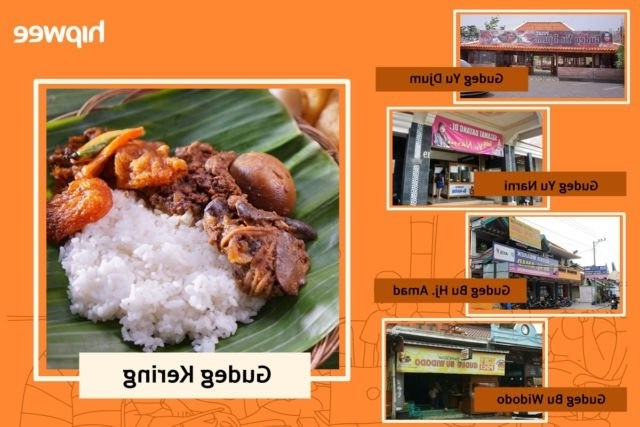gudeg: (48, 126, 315, 350)
